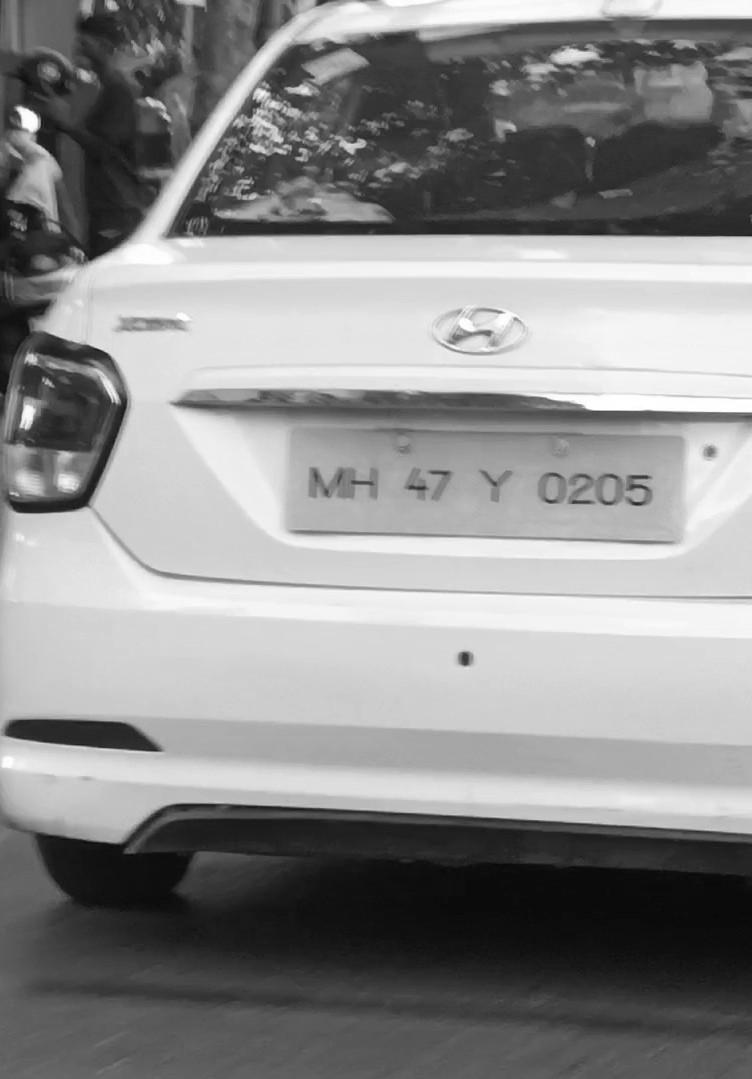number_plate: (290, 431, 683, 534)
